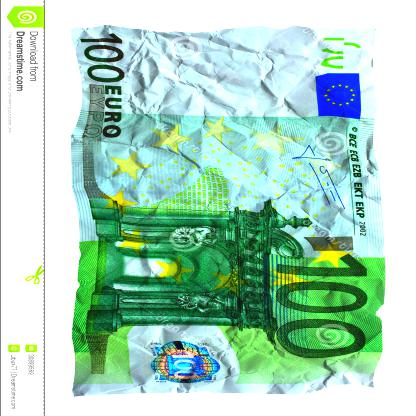euro_banknote: (44, 54, 413, 365)
